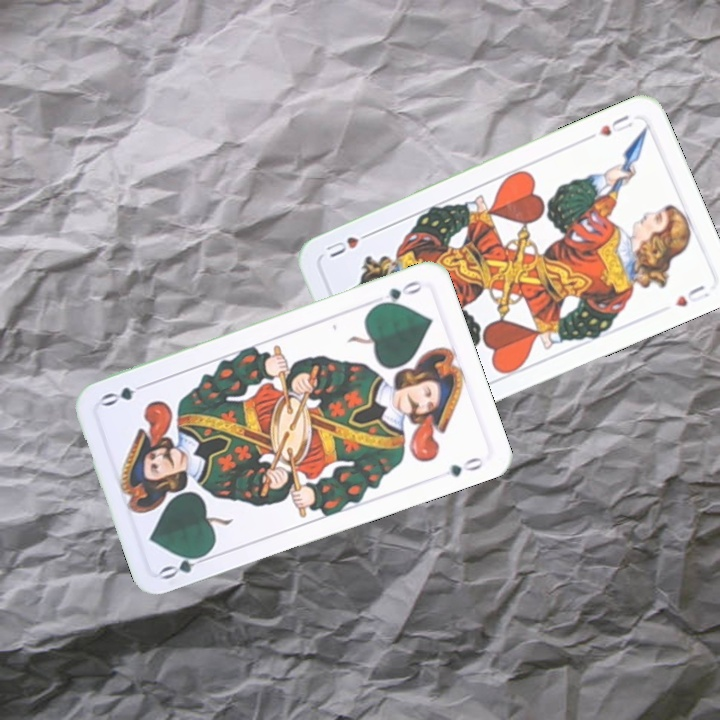GO: (156, 547, 214, 583), (370, 276, 426, 310)
HU: (594, 111, 636, 139)
